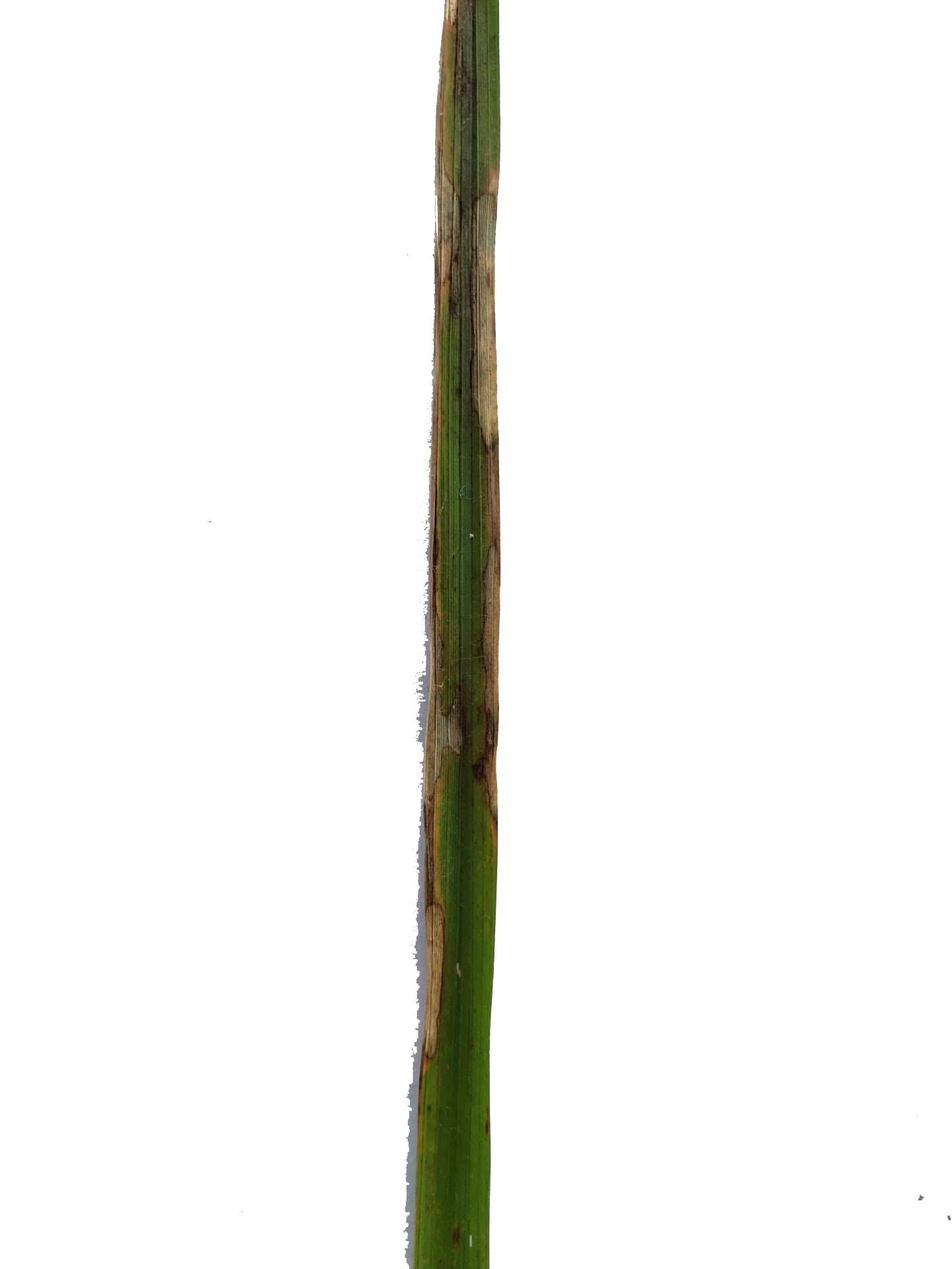Blight: (407, 615, 463, 1074), (433, 165, 506, 469), (466, 486, 502, 991), (440, 3, 499, 185)
